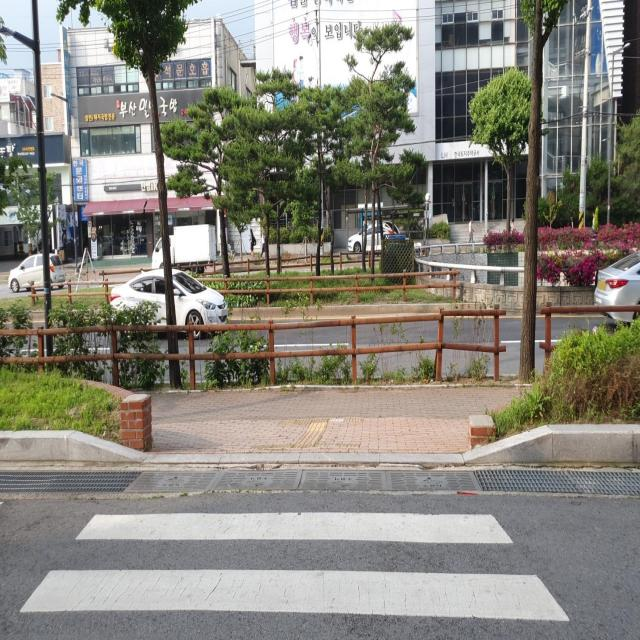횡단보도: (18, 509, 571, 625)
